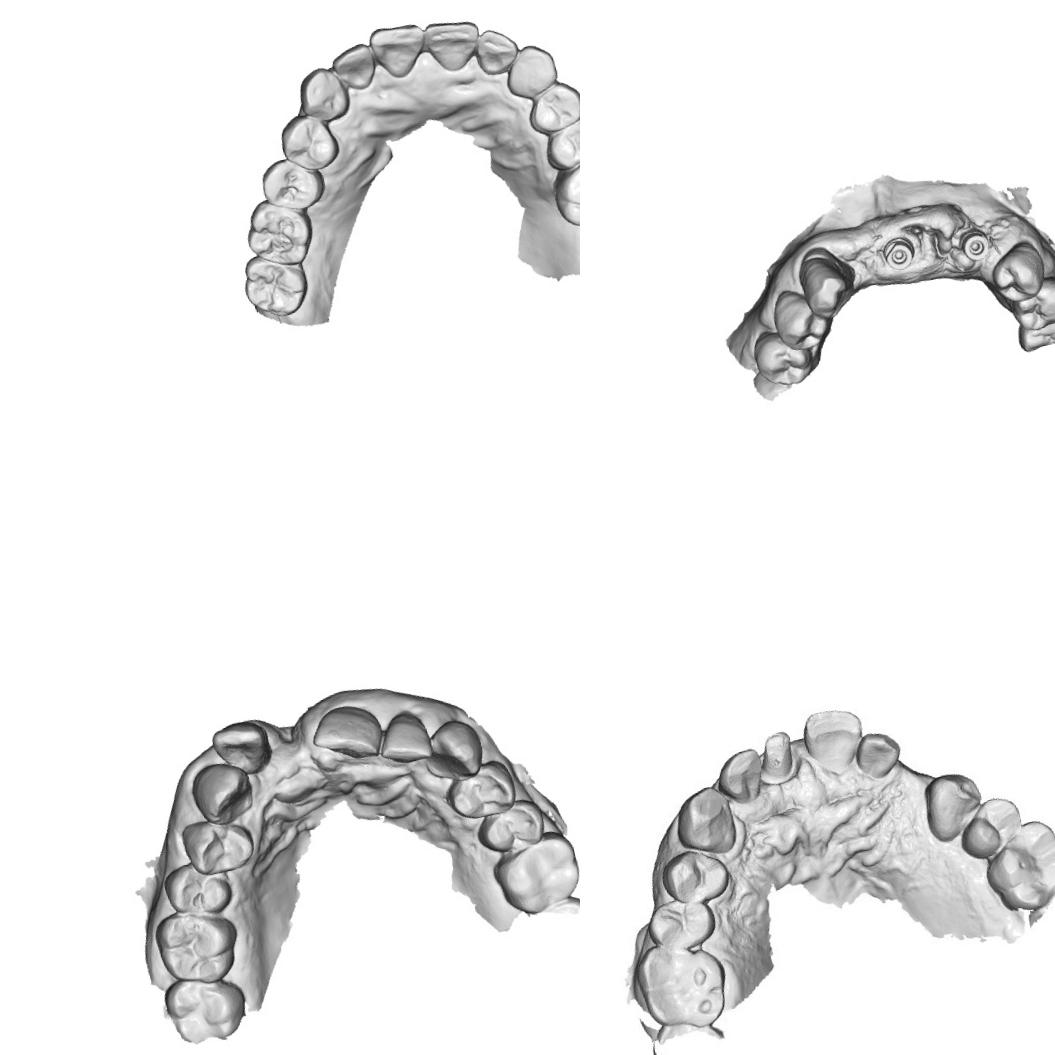canine: (668, 780, 748, 860), (184, 756, 260, 832), (417, 713, 489, 786), (795, 242, 859, 318), (498, 38, 563, 104), (293, 59, 354, 126)
implant: (876, 230, 920, 278), (953, 222, 998, 268)
incisor: (303, 698, 388, 772), (206, 714, 278, 784), (798, 704, 866, 771), (366, 18, 433, 84), (370, 705, 436, 772), (422, 13, 486, 78), (715, 744, 772, 808), (753, 721, 807, 785), (470, 22, 524, 80), (328, 38, 382, 96), (852, 727, 906, 781)
molar: (150, 900, 248, 994), (485, 825, 580, 921), (636, 936, 728, 1034), (158, 966, 254, 1052), (979, 814, 1055, 918), (239, 192, 318, 272), (237, 244, 315, 324), (546, 153, 580, 232)
premolar: (177, 809, 262, 881), (440, 755, 523, 825), (157, 853, 237, 922), (748, 322, 822, 396), (766, 280, 836, 358), (470, 793, 552, 859), (275, 107, 344, 178), (914, 768, 982, 840), (256, 152, 330, 218), (984, 242, 1051, 308), (960, 791, 1028, 856), (662, 848, 730, 909), (647, 896, 714, 957), (522, 78, 580, 138), (1006, 271, 1055, 335), (538, 112, 580, 175)
